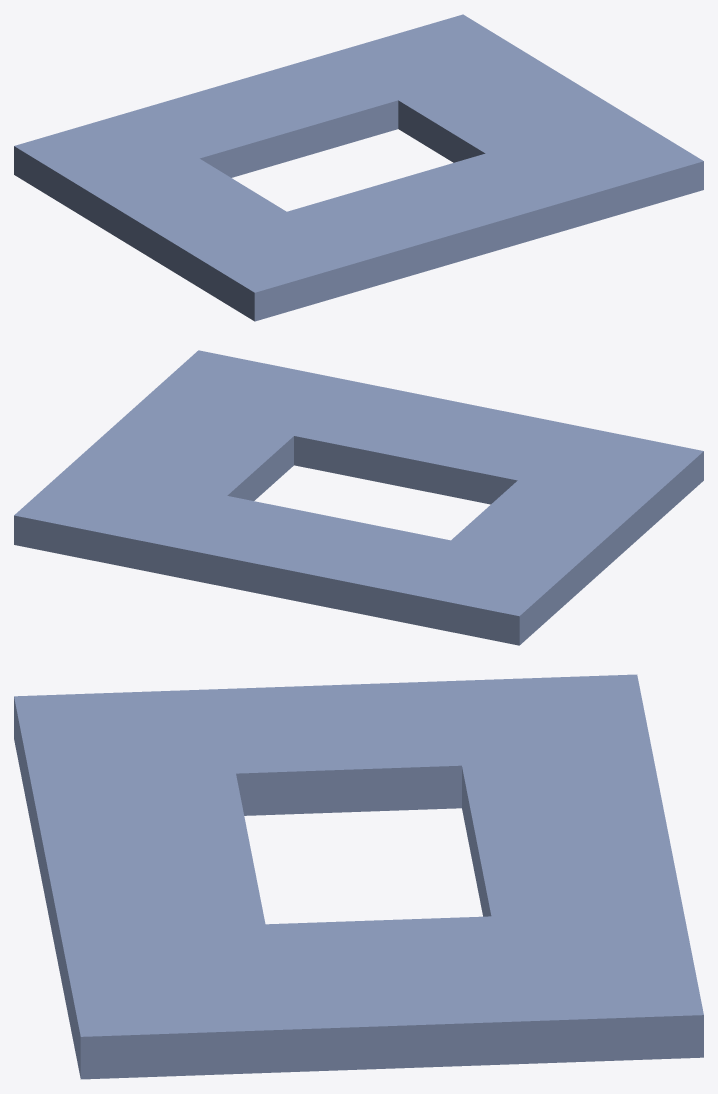
The model's file is ChestnutFloor1.gltf.
3 views of the same model, one above another, from view 1: azimuth 30°, elevation 25°; view 2: azimuth 150°, elevation 25°; view 3: azimuth 270°, elevation 25° (orthographic). The views are drawn at different scales.
Bounding box in the file's own units: 72.99 × 4 × 58.73.
